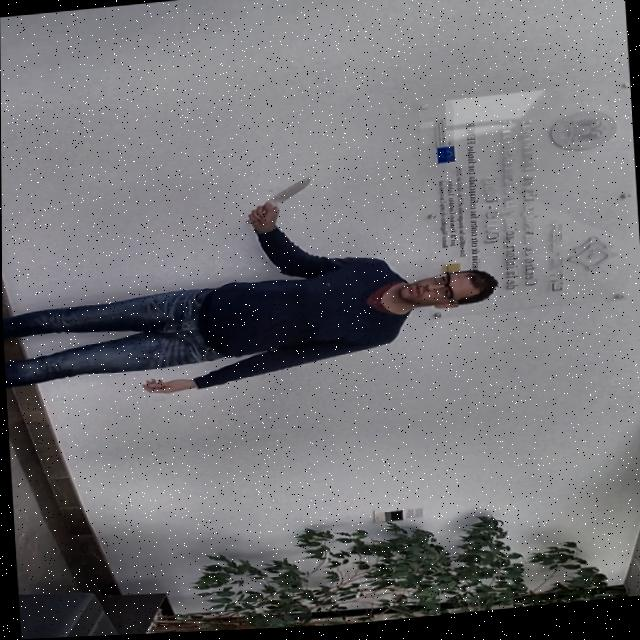knife: (267, 175, 317, 209)
